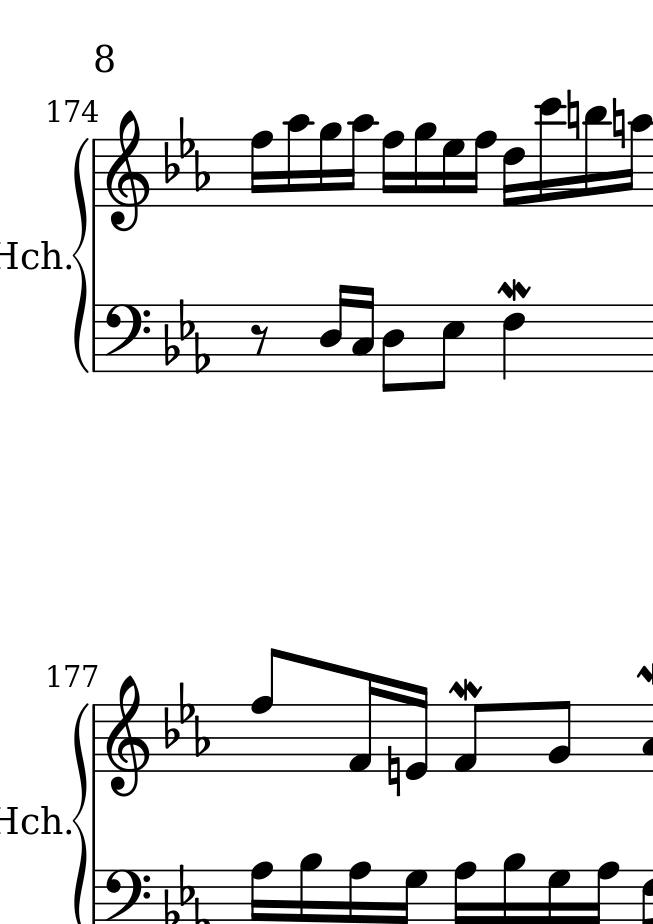1: (48, 662, 63, 692), (47, 98, 61, 125)
16_0: (404, 682, 430, 782)
16_1: (346, 671, 382, 776)
16_10: (345, 111, 378, 208), (623, 112, 653, 208), (286, 113, 314, 207)
16_11: (583, 105, 609, 208)
16_12: (537, 97, 566, 209)
16_3: (352, 285, 375, 374)
16_4: (317, 283, 349, 372)
16_6: (502, 138, 527, 211)
16_7: (440, 137, 466, 208)
16_8: (470, 130, 498, 208), (248, 129, 274, 208), (381, 130, 405, 210)
16_9: (412, 121, 439, 208), (318, 121, 343, 209)
4: (79, 97, 100, 125)
4_6: (500, 303, 527, 383)
7: (64, 95, 80, 125), (80, 662, 98, 688), (64, 661, 79, 691)
8: (94, 42, 116, 76)
8_1: (452, 703, 485, 773)
8_2: (547, 699, 572, 773)
8_4: (381, 303, 405, 394)
8_5: (433, 303, 465, 391)
8_8: (249, 647, 286, 773)
Brace: (70, 702, 89, 924), (71, 138, 88, 377)
E_F: (164, 115, 211, 194), (163, 298, 209, 373), (163, 683, 209, 756)
Fclef: (104, 300, 151, 374)
Gclef: (106, 106, 152, 234), (104, 675, 149, 798)
Mordent: (496, 276, 534, 301), (449, 678, 480, 702)
Natural: (566, 84, 583, 147), (609, 94, 625, 148), (386, 745, 401, 798)
Rests8: (248, 324, 273, 357)
Single_barline: (87, 138, 102, 207), (87, 704, 102, 772), (88, 305, 102, 373), (89, 870, 102, 922)
